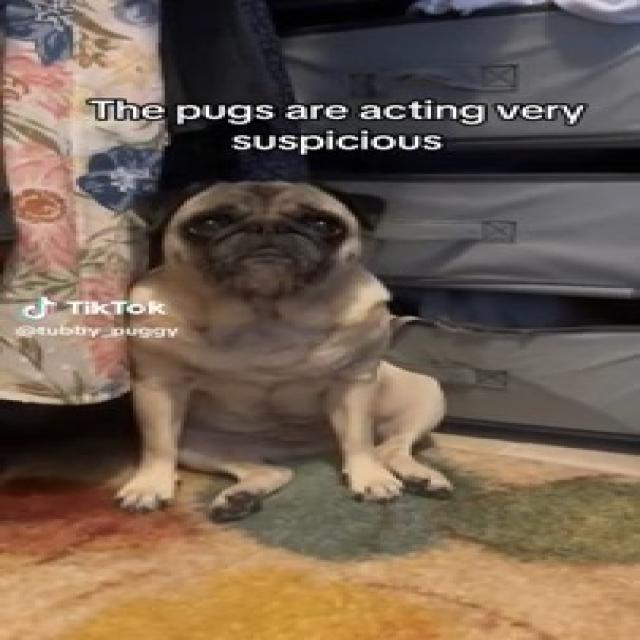dogs: (134, 182, 474, 518)
